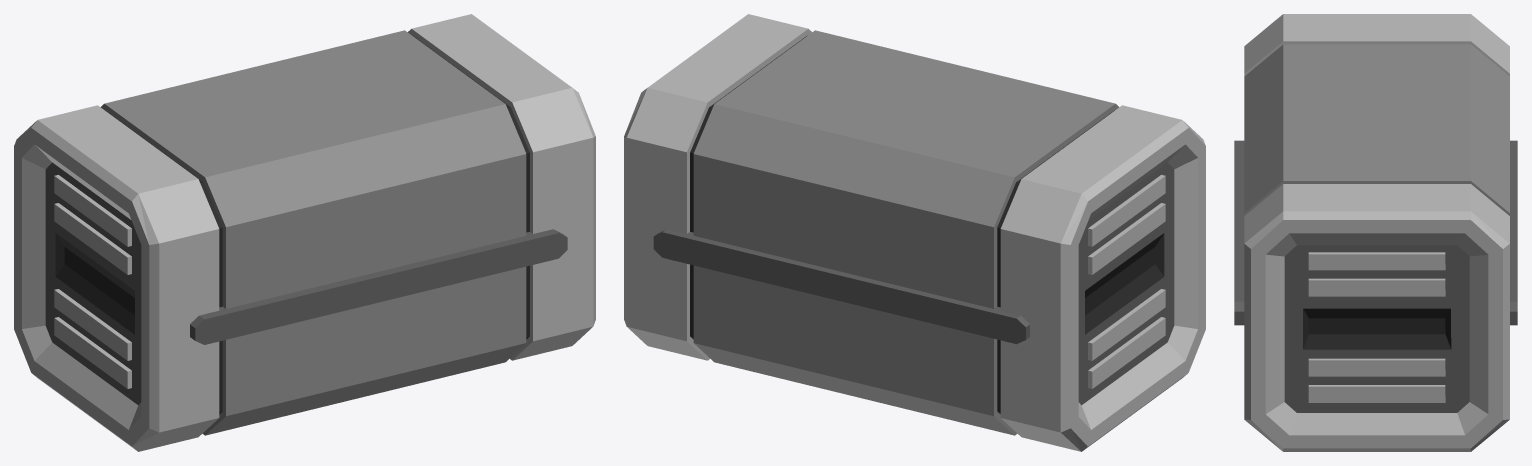
Rendered from crate_A.FBX.
The picture shows the model from 3 angles, left to right: view 1: azimuth 30°, elevation 25°; view 2: azimuth 150°, elevation 25°; view 3: azimuth 270°, elevation 25°; orthographic projection. The views are drawn at different scales.
Visible parts, largest first — view 1: crate_A; view 2: crate_A; view 3: crate_A.
Boxes of the visible parts, left/top/right/bottom form: crate_A: left=14, top=14, right=595, bottom=451; crate_A: left=624, top=14, right=1205, bottom=451; crate_A: left=1234, top=14, right=1517, bottom=451.
Bounding box in the file's own units: 249 × 138 × 147.
